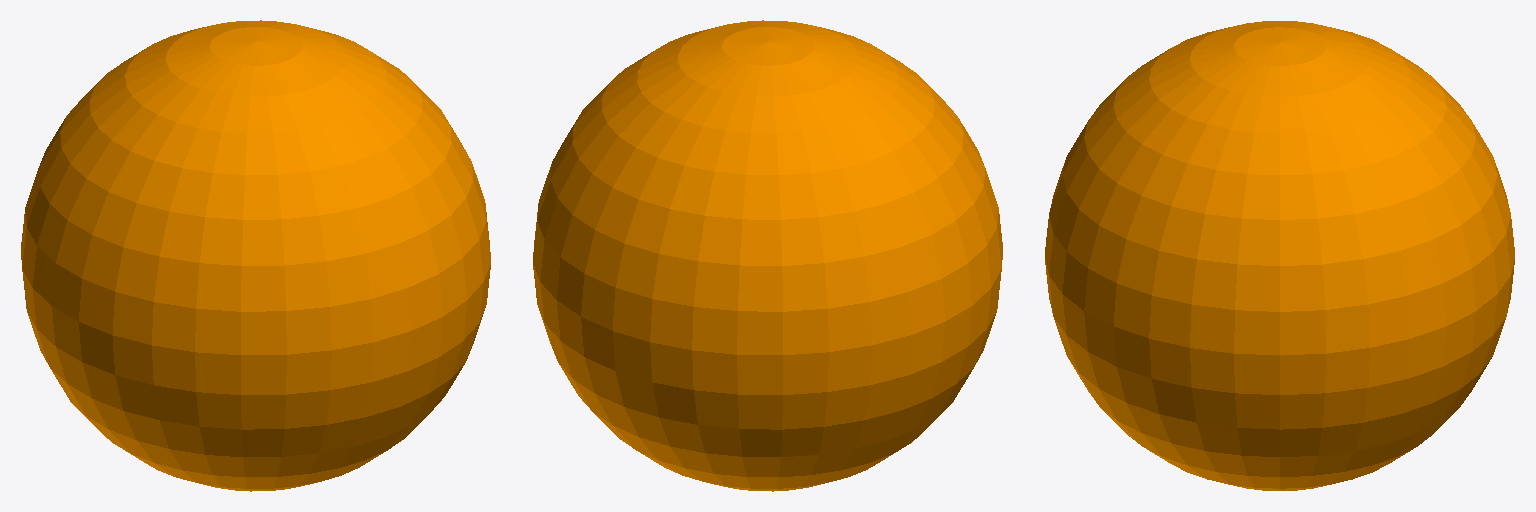
URDF robot description (ball):
<?xml version="1.0" ?>
<!-- =================================================================================== -->
<!-- |    This document was autogenerated by xacro from robot_description/urdf/environment/ball.xacro | -->
<!-- |    EDITING THIS FILE BY HAND IS NOT RECOMMENDED                                 | -->
<!-- =================================================================================== -->
<robot name="ball" xmlns:xacro="http://www.ros.org/wiki/xacro">
  <link name="base_link">
    <inertial>
      <!-- Inertia from https://en.wikipedia.org/wiki/List_of_moments_of_inertia#List_of_3D_inertia_tensors -->
      <mass value="0.057"/>
      <inertia ixx="6.897000000000001e-05" ixy="0" ixz="0" iyy="6.897000000000001e-05" iyz="0" izz="6.897000000000001e-05"/>
    </inertial>
    <visual>
      <geometry>
        <sphere radius="0.0375"/>
      </geometry>
      <material name="orange">
        <color rgba="0.975 0.6 0. 1"/>
      </material>
    </visual>
    <collision>
      <geometry>
        <sphere radius="0.0375"/>
      </geometry>
      <!--<contact_coefficients kd="19" kp="45000" mu="0.4"/>-->
      <contact_coefficients kd="500" kp="0" mu="0.4"/> 
    </collision>
  </link>
</robot>

--- Render facts (derived) ---
3 views of the same robot in one strip: view 1: azimuth 30°, elevation 25°; view 2: azimuth 150°, elevation 25°; view 3: azimuth 270°, elevation 25° (orthographic).
Robot: ball — 1 links, 0 joints (none); root link base_link; default pose: every joint at zero.
Links seen in each view (by area): view 1: base_link; view 2: base_link; view 3: base_link.
Boxes of the visible links, left/top/right/bottom form: base_link: left=21, top=20, right=490, bottom=491; base_link: left=533, top=20, right=1002, bottom=491; base_link: left=1045, top=21, right=1514, bottom=490.
Size in the robot's own frame: 0.075 by 0.075 by 0.075 metres.
Geometry: primitives only (box / cylinder / sphere), no mesh files.